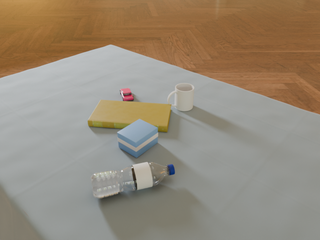book: (88, 100, 172, 132)
bottle: (91, 162, 175, 199)
box: (117, 119, 158, 158)
cup: (168, 83, 194, 111)
toy_car: (120, 88, 133, 101)
